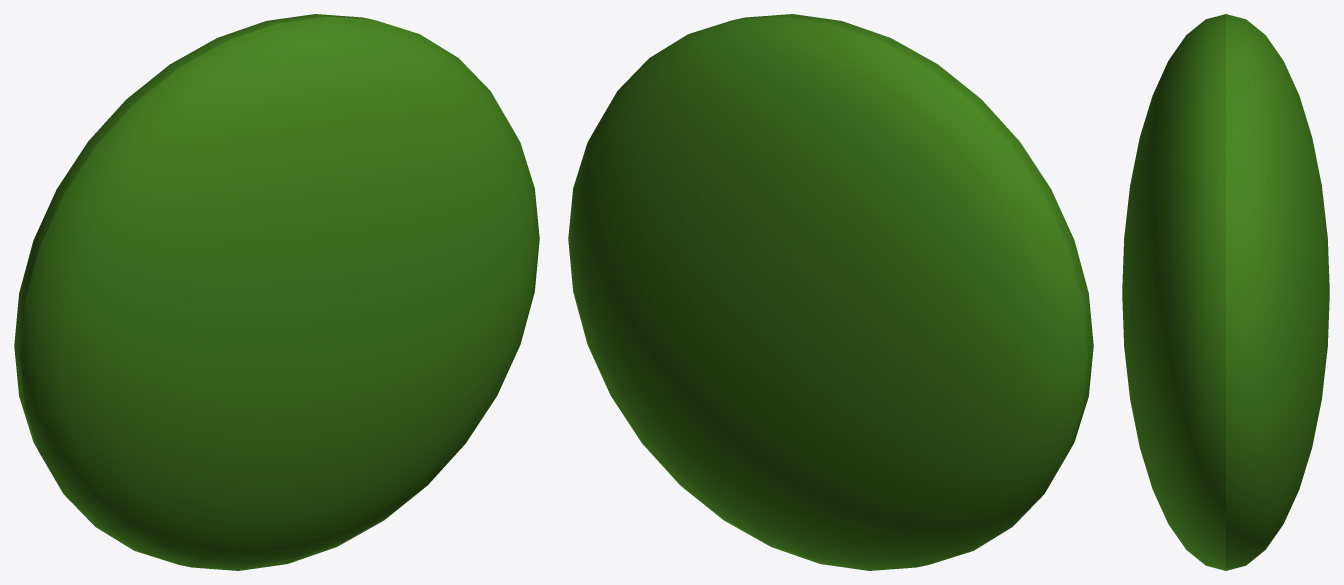
Rendered from pill-5.glb.
3 views of the same model, side by side, from view 1: azimuth 30°, elevation 25°; view 2: azimuth 150°, elevation 25°; view 3: azimuth 270°, elevation 25° (orthographic). The views are drawn at different scales.
Parts seen in each view (by area): view 1: Pill5; view 2: Pill5; view 3: Pill5.
Boxes of the visible parts, x1=… form: Pill5: x1=14, y1=14, x2=539, y2=570; Pill5: x1=568, y1=14, x2=1093, y2=570; Pill5: x1=1122, y1=14, x2=1329, y2=570.
Bounding box in the file's own units: 0.0766 × 0.0766 × 0.0285.
